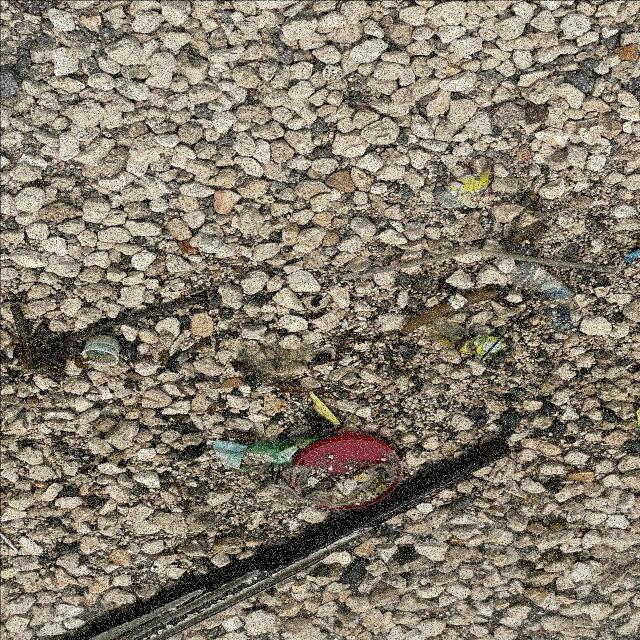plastic_waste: (342, 249, 619, 282), (291, 435, 405, 512), (445, 172, 496, 209), (455, 334, 512, 362), (84, 336, 121, 368)
